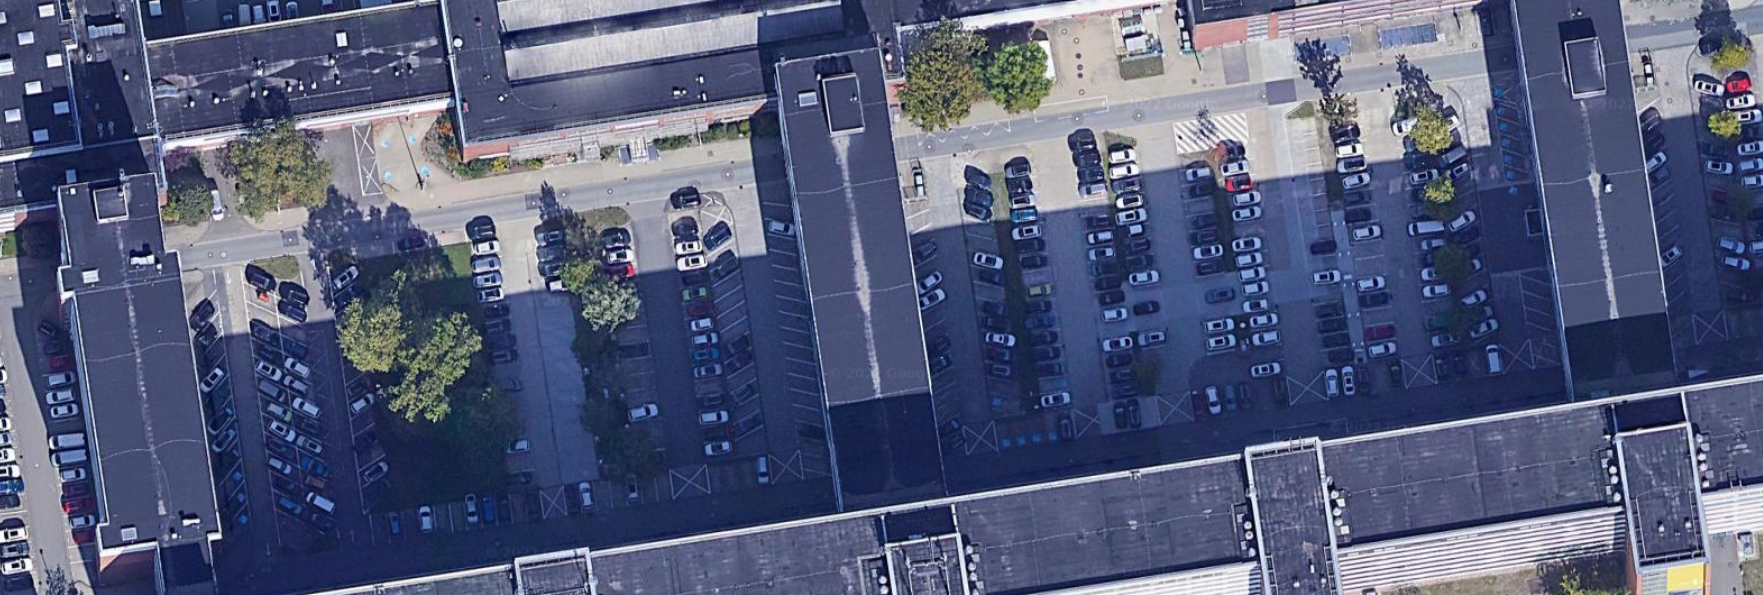car: (279, 281, 308, 306), (305, 492, 334, 516), (290, 396, 320, 420), (255, 359, 282, 384), (199, 367, 224, 394), (257, 379, 286, 403), (268, 420, 296, 443), (333, 265, 359, 290), (248, 270, 275, 294), (917, 288, 944, 312), (279, 300, 307, 323), (266, 438, 295, 460), (252, 324, 278, 348), (916, 270, 942, 294), (49, 450, 85, 467), (48, 433, 84, 450), (1448, 209, 1475, 232), (295, 435, 323, 457), (471, 271, 504, 289), (347, 373, 370, 399), (284, 357, 310, 379), (973, 251, 1003, 270), (274, 477, 302, 497), (472, 255, 501, 274), (629, 403, 658, 422), (925, 335, 949, 359), (350, 393, 374, 415), (265, 402, 291, 423), (363, 461, 389, 483), (676, 254, 708, 271), (299, 456, 326, 476), (1, 557, 31, 575), (1116, 208, 1147, 226), (1102, 335, 1132, 353), (463, 493, 480, 524), (1109, 163, 1140, 180), (1337, 156, 1368, 173), (278, 496, 302, 517), (1250, 312, 1280, 330), (1694, 79, 1724, 97), (49, 371, 76, 390), (1028, 330, 1058, 346), (1040, 391, 1070, 408), (1087, 245, 1118, 262), (1365, 323, 1395, 340), (675, 238, 703, 256), (1138, 330, 1166, 348), (1112, 178, 1143, 193), (1205, 334, 1237, 350), (1193, 244, 1224, 260), (1359, 291, 1391, 307), (282, 375, 308, 394), (266, 457, 292, 476), (698, 411, 727, 427), (695, 393, 724, 409), (417, 505, 434, 534), (1022, 314, 1056, 328), (1124, 253, 1154, 270), (1251, 361, 1281, 378), (1205, 286, 1235, 303), (474, 238, 501, 256), (768, 219, 795, 237), (965, 188, 992, 206), (1369, 341, 1396, 359), (1342, 172, 1369, 190), (1333, 125, 1360, 143), (64, 498, 94, 514), (1129, 269, 1159, 285), (1091, 261, 1121, 277), (1011, 224, 1043, 238), (477, 287, 505, 304), (503, 438, 531, 454), (964, 204, 992, 220), (1191, 213, 1219, 229), (1185, 166, 1213, 183), (1239, 267, 1267, 283), (1253, 330, 1281, 346), (1705, 160, 1733, 177), (483, 303, 509, 321), (1095, 274, 1121, 292), (46, 389, 75, 405), (1032, 345, 1061, 361), (1486, 345, 1502, 375), (1409, 169, 1438, 184), (682, 286, 709, 303), (51, 403, 78, 420), (1316, 301, 1342, 318), (756, 456, 770, 486), (1324, 368, 1339, 398), (1389, 358, 1403, 388), (468, 223, 496, 238), (704, 441, 732, 457), (63, 483, 91, 498), (1086, 229, 1114, 245), (1116, 193, 1145, 209), (1101, 306, 1129, 322), (1206, 387, 1222, 415), (1237, 384, 1253, 412), (1197, 259, 1226, 274), (1241, 281, 1269, 297), (1357, 277, 1385, 292), (978, 268, 1004, 285), (1004, 163, 1033, 178), (1011, 208, 1040, 223), (1020, 255, 1049, 270), (1059, 413, 1074, 442), (1205, 318, 1235, 333), (1191, 229, 1220, 244), (1232, 237, 1262, 252), (691, 332, 718, 348), (69, 514, 96, 530), (1109, 147, 1136, 163), (1079, 182, 1106, 198), (1099, 290, 1125, 306), (1106, 352, 1133, 368), (1127, 402, 1142, 429), (1112, 384, 1139, 399), (1242, 298, 1269, 314), (1432, 333, 1459, 349), (694, 364, 722, 379), (691, 349, 720, 363), (1085, 214, 1113, 228), (1235, 253, 1263, 268), (1336, 143, 1364, 157), (1015, 238, 1046, 252), (1133, 300, 1159, 316), (1113, 402, 1128, 429), (1109, 369, 1136, 384), (1313, 270, 1340, 285), (1423, 283, 1450, 298), (579, 481, 593, 510), (625, 474, 639, 502), (1353, 226, 1381, 240), (60, 468, 85, 483), (1358, 366, 1371, 396), (1007, 179, 1034, 192), (1009, 193, 1036, 207), (1342, 366, 1354, 397), (388, 510, 401, 535), (1027, 283, 1052, 297), (1223, 386, 1237, 412), (1024, 300, 1052, 313), (690, 318, 715, 332), (1420, 237, 1445, 251)
